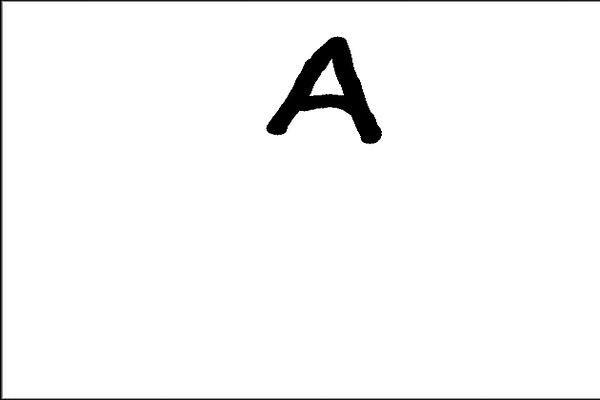A: (253, 25, 393, 157)
